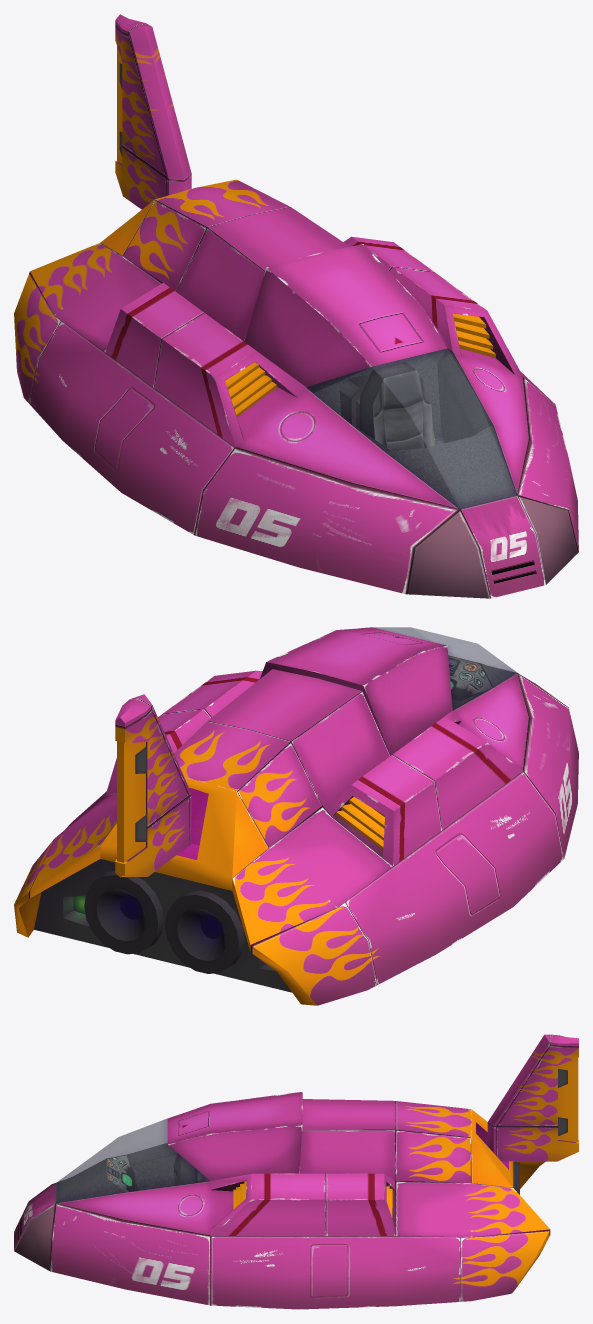
The model's file is f-zero__fire_stingray.glb.
The picture shows the model from 3 angles, top to bottom: view 1: azimuth 30°, elevation 25°; view 2: azimuth 150°, elevation 25°; view 3: azimuth 270°, elevation 25°; orthographic projection. The views are drawn at different scales.
Visible parts, largest first — view 1: Object_4, Object_5, Object_3, Object_2; view 2: Object_4, Object_5, Object_3; view 3: Object_4, Object_5, Object_3, Object_2.
Boxes of the visible parts, x1,y1,x2,y2 form: Object_4: (14, 14, 578, 598); Object_5: (307, 348, 517, 508); Object_3: (307, 348, 517, 509); Object_2: (339, 362, 436, 450); Object_4: (14, 627, 578, 1005); Object_5: (373, 627, 517, 709); Object_3: (448, 655, 516, 709); Object_4: (14, 1034, 578, 1309); Object_5: (55, 1118, 209, 1202); Object_3: (55, 1143, 177, 1203); Object_2: (173, 1153, 209, 1185).
Size of the model in its own units: 64.18 by 45.64 by 113.
Materials: 4 (4 with a texture image).
